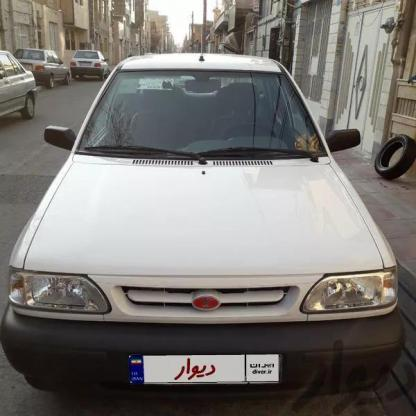Car: (0, 54, 414, 416), (0, 43, 81, 93), (0, 42, 40, 138), (71, 53, 127, 83)
